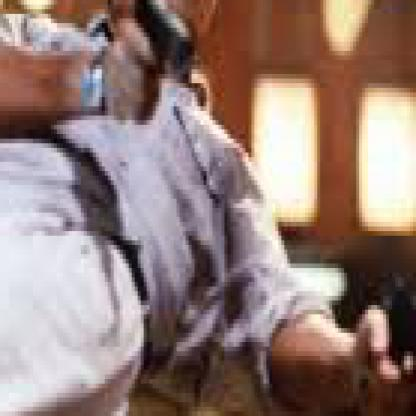gun: (272, 0, 413, 412)
